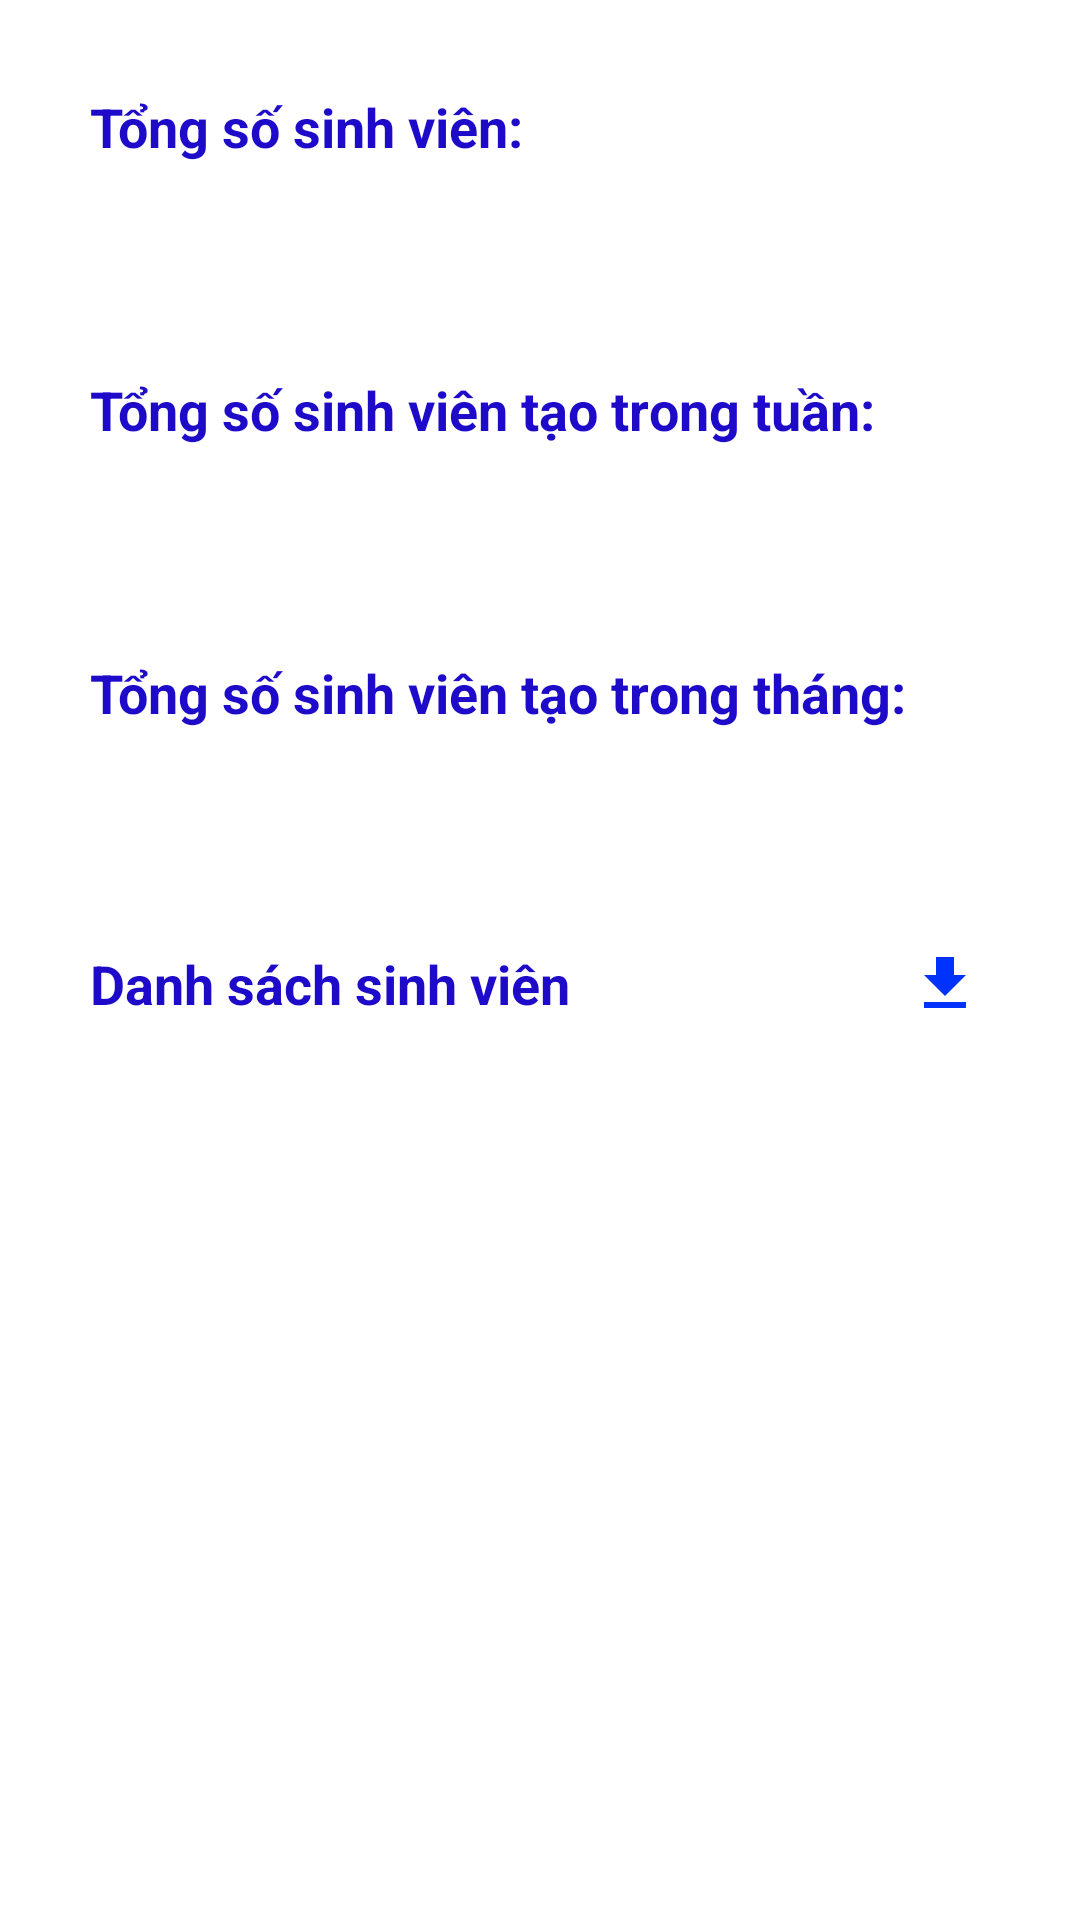

Locate icon controls on the screen. Image size 1080w x 1920h, boxes as detection(x1, y1, x2, y2).
download: detection(924, 957, 966, 1008)
